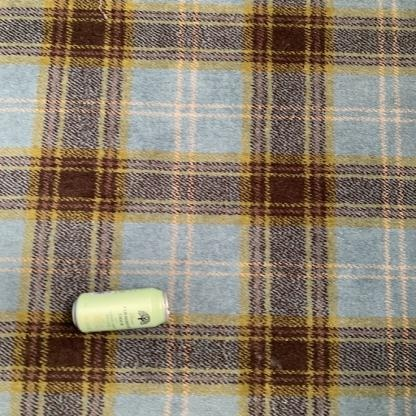trash: (72, 288, 168, 332)
